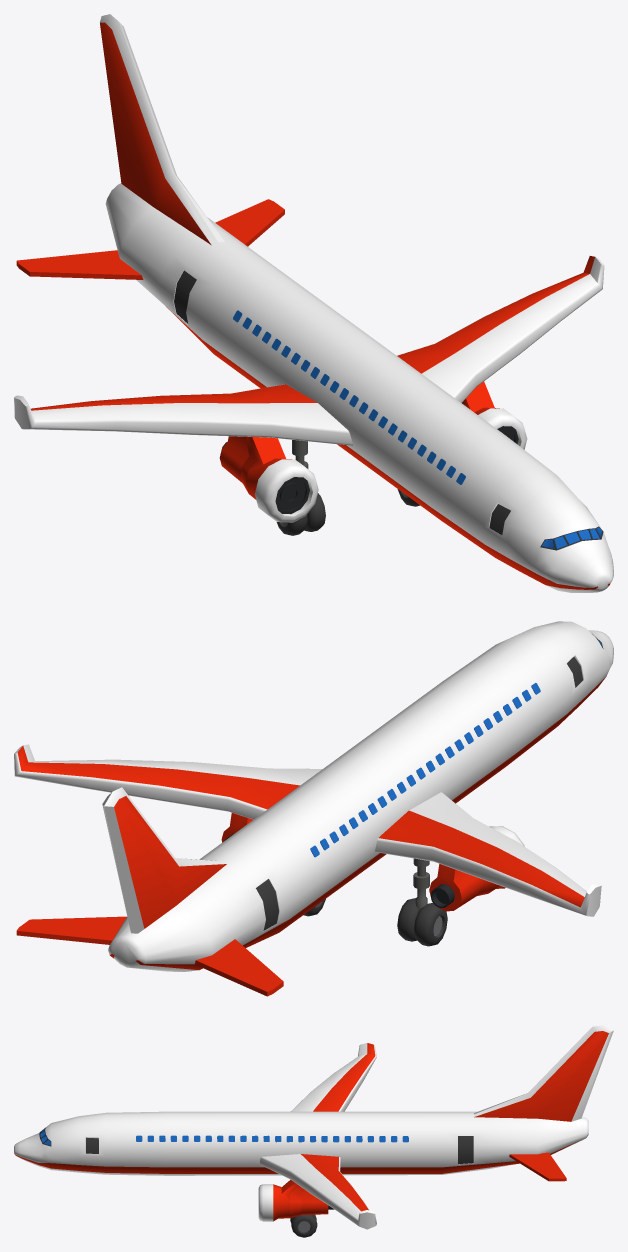
Rendered from Boeing_1.fbx.
3 views of the same model, one above another, from view 1: azimuth 30°, elevation 25°; view 2: azimuth 150°, elevation 25°; view 3: azimuth 270°, elevation 25° (orthographic). The views are drawn at different scales.
Visible parts, largest first — view 1: Boeing_1; view 2: Boeing_1; view 3: Boeing_1.
Boxes of the visible parts, x1,y1,x2,y2 form: Boeing_1: [14, 14, 613, 592]; Boeing_1: [14, 621, 613, 996]; Boeing_1: [14, 1025, 613, 1237].
Bounding box in the file's own units: 1903 × 1004 × 2855.
